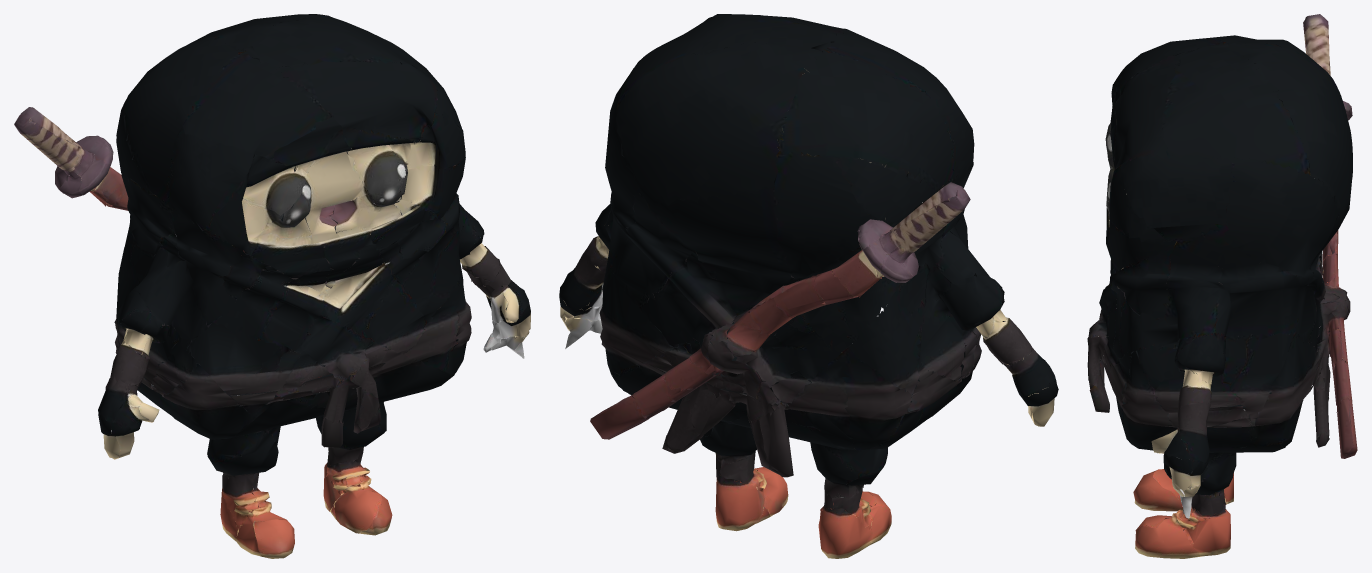
File: shadow-ninja.glb
3 renders of one model, left to right at view 1: azimuth 30°, elevation 25°; view 2: azimuth 150°, elevation 25°; view 3: azimuth 270°, elevation 25°, orthographic. The views are drawn at different scales.
Parts seen in each view (by area): view 1: Mesh_0; view 2: Mesh_0; view 3: Mesh_0.
Boxes of the visible parts, left/top/right/bottom form: Mesh_0: left=14, top=14, right=530, bottom=558; Mesh_0: left=559, top=14, right=1058, bottom=558; Mesh_0: left=1087, top=14, right=1357, bottom=558.
Bounding box in the file's own units: 1.86 × 1.9 × 0.9951.
Materials: 1 (1 with a texture image).
